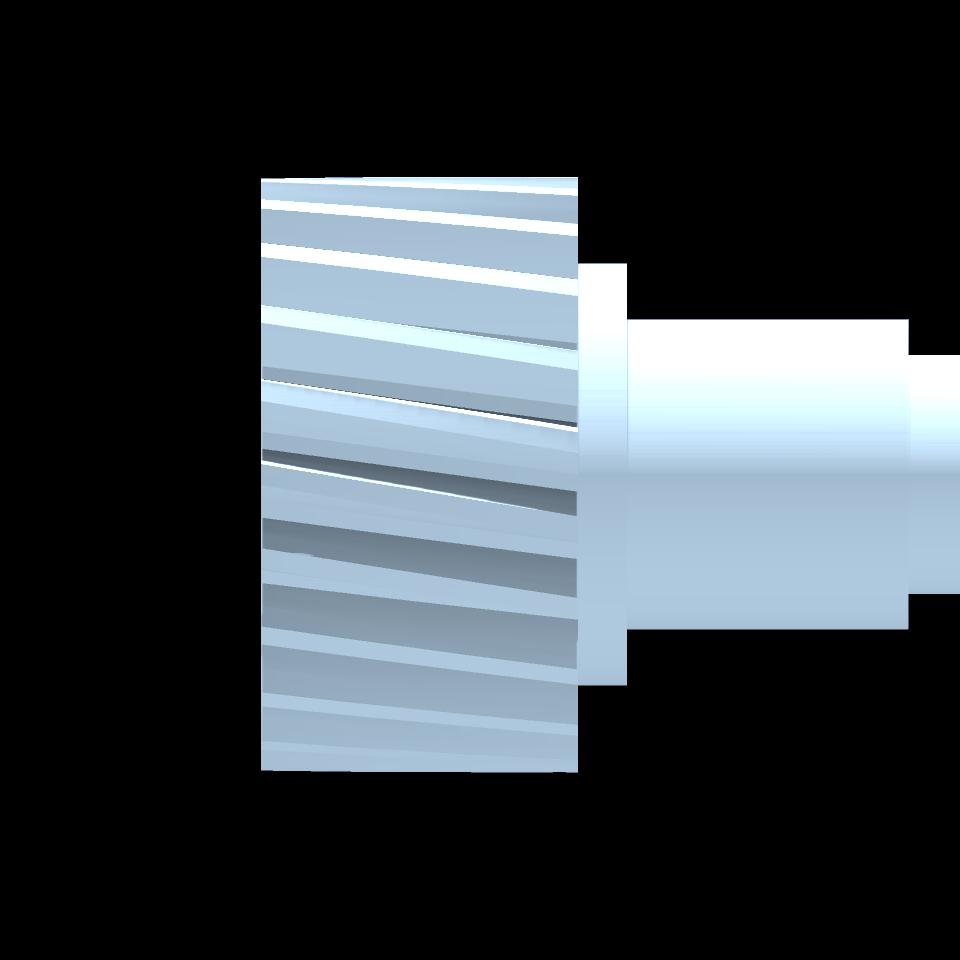Helical: (260, 176, 578, 773)
